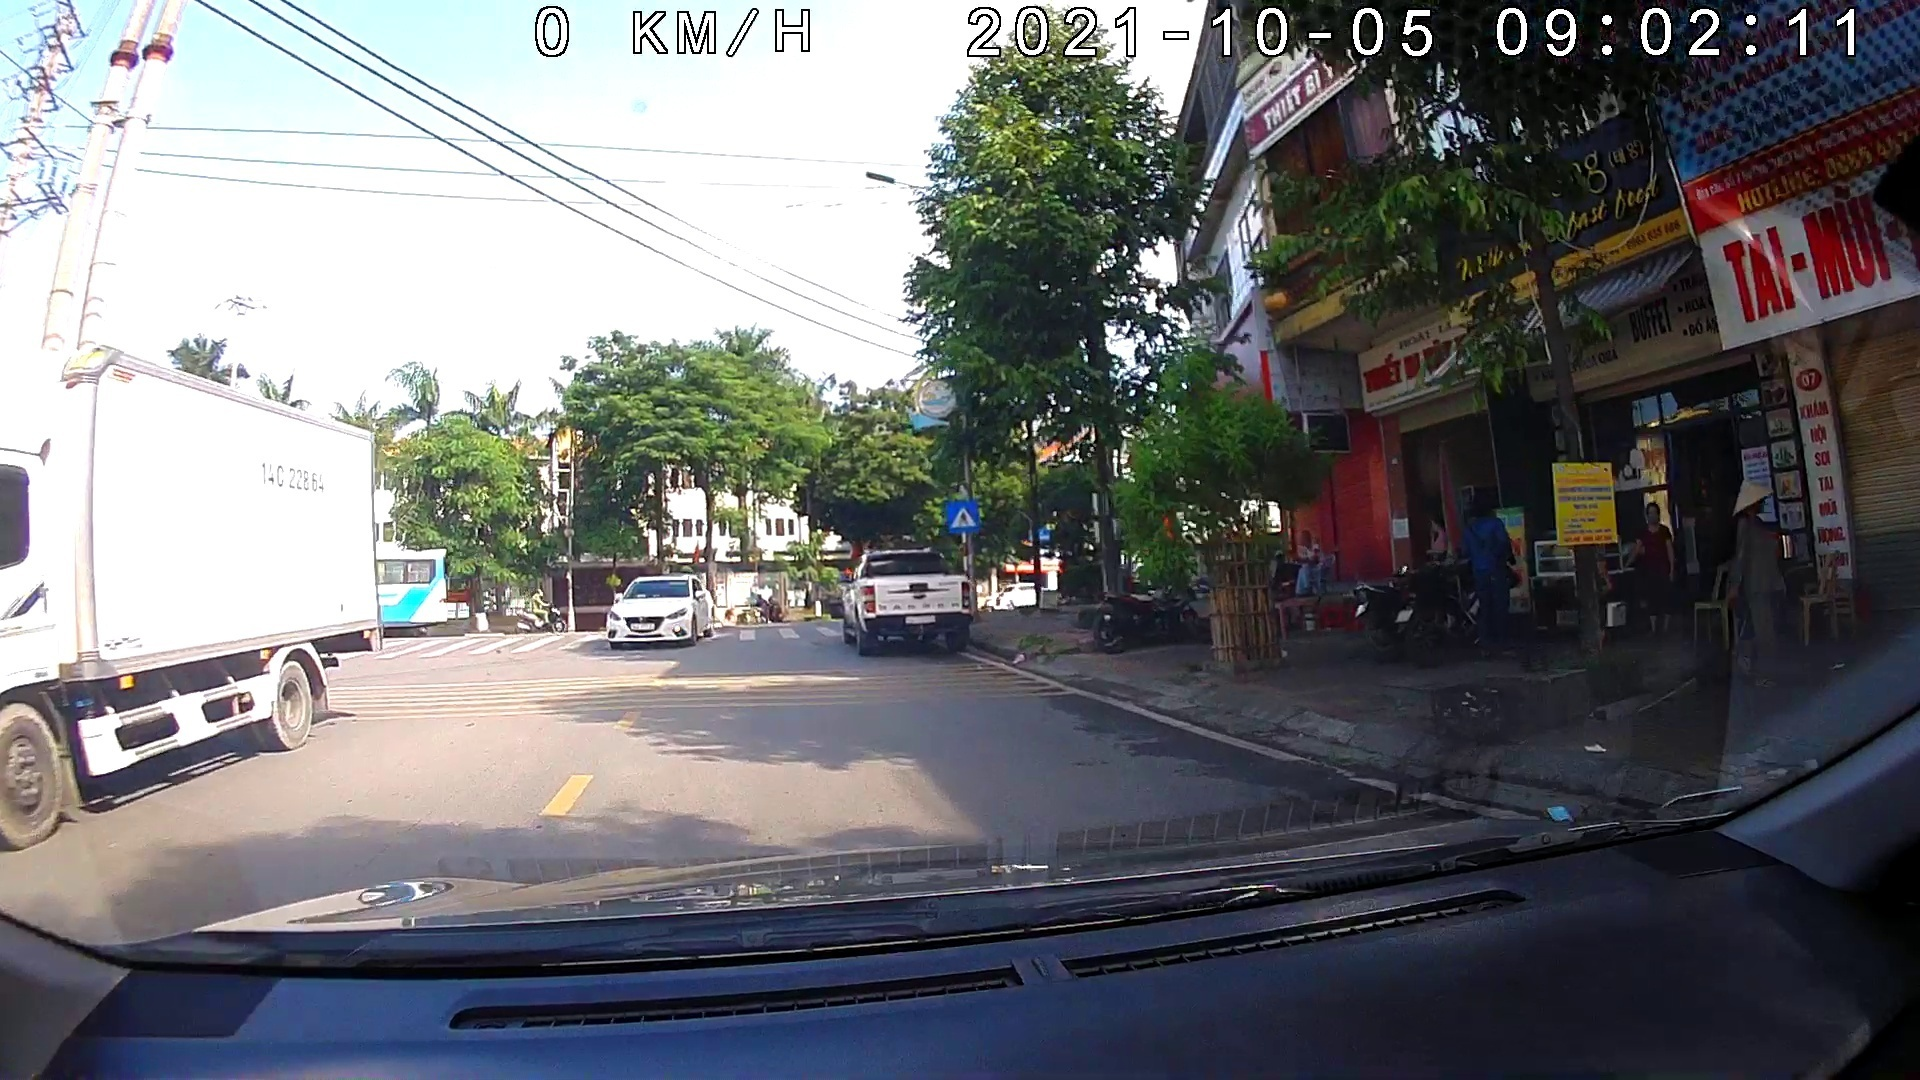Nguoi di bo: (945, 500, 981, 533)
